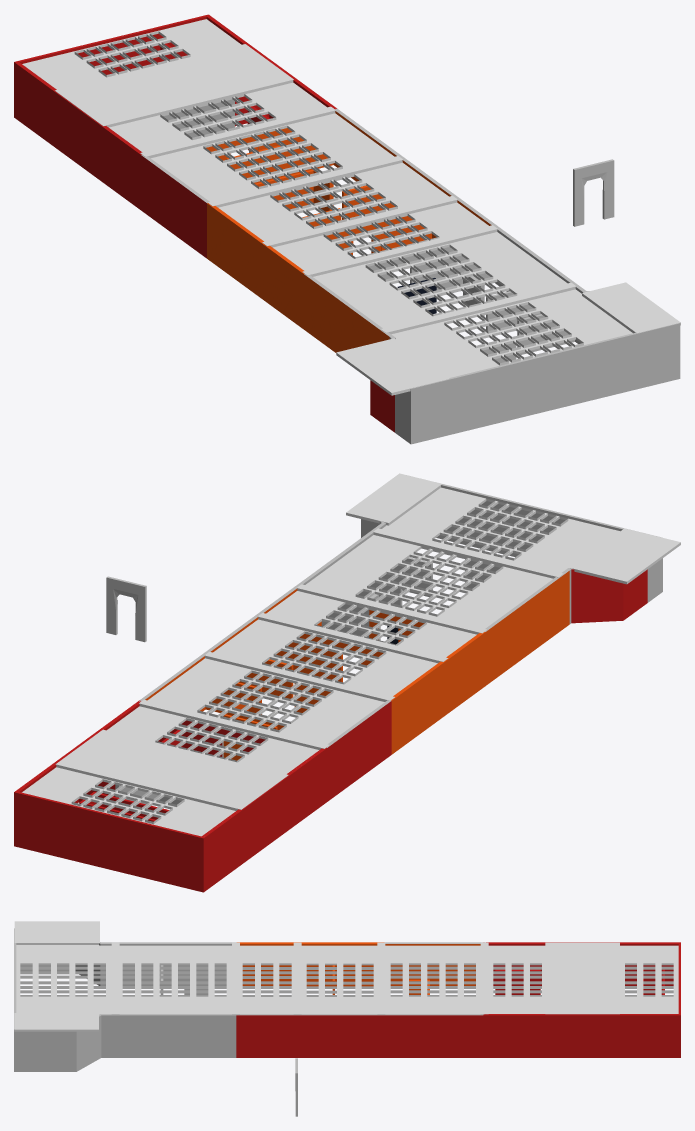
The model's file is museev13.obj.
3 renders of one model, top to bottom at view 1: azimuth 30°, elevation 25°; view 2: azimuth 150°, elevation 25°; view 3: azimuth 270°, elevation 25°, orthographic. The views are drawn at different scales.
Visible parts, largest first — view 1: Plane.009_Plane.013, Wall.042_Wall.045, Wall.028_Wall.001, Wall.030_Wall.014, Wall.036_Wall.033, Wall.004_Wall.009, Wall.024_Wall.037, Wall.014_Wall.027, Wall.044_Wall.047, Plane.003_Plane.001, Wall.027_Wall, Wall.003_Wall.006 (+2 smaller); view 2: Plane.009_Plane.013, Wall.037_Wall.041, Wall.004_Wall.009, Wall.036_Wall.033, Wall.044_Wall.047, Wall.028_Wall.001, Wall.030_Wall.014, Wall.024_Wall.037, Wall.014_Wall.027, Wall.042_Wall.045, Plane.003_Plane.001, Wall.027_Wall (+1 smaller); view 3: Plane.009_Plane.013, Wall.027_Wall, Wall.003_Wall.006, Wall.018_Wall.031, Wall.033_Wall.021, Wall_Wall.030, Wall.041_Wall.017, Wall.004_Wall.009, Wall.028_Wall.001, Wall.043_Wall.046, Wall.024_Wall.037, Wall.014_Wall.027 (+4 smaller).
Boxes of the visible parts, x1,y1,x2,y2 form: Plane.009_Plane.013: (22, 19, 680, 395); Wall.042_Wall.045: (413, 323, 678, 443); Wall.028_Wall.001: (141, 144, 221, 258); Wall.030_Wall.014: (76, 107, 142, 211); Wall.036_Wall.033: (14, 61, 78, 163); Wall.004_Wall.009: (303, 263, 391, 352); Wall.024_Wall.037: (207, 203, 263, 299); Wall.014_Wall.027: (263, 244, 304, 328); Wall.044_Wall.047: (370, 337, 413, 444); Plane.003_Plane.001: (573, 159, 614, 226); Wall.027_Wall: (258, 108, 433, 182); Wall.003_Wall.006: (419, 226, 583, 343); Plane.009_Plane.013: (22, 473, 680, 836); Wall.037_Wall.041: (17, 792, 201, 891); Wall.004_Wall.009: (408, 570, 569, 685); Wall.036_Wall.033: (200, 792, 266, 892); Wall.044_Wall.047: (569, 537, 662, 623); Wall.028_Wall.001: (251, 700, 391, 800); Wall.030_Wall.014: (264, 747, 328, 846); Wall.024_Wall.037: (391, 660, 446, 754); Wall.014_Wall.027: (446, 632, 485, 714); Wall.042_Wall.045: (436, 484, 657, 557); Plane.003_Plane.001: (106, 576, 146, 642); Wall.027_Wall: (139, 631, 236, 754); Plane.009_Plane.013: (14, 921, 678, 1031); Wall.027_Wall: (335, 1014, 485, 1057); Wall.003_Wall.006: (104, 1014, 236, 1057); Wall.018_Wall.031: (236, 1014, 335, 1057); Wall.033_Wall.021: (483, 1014, 584, 1057); Wall_Wall.030: (584, 1014, 680, 1057); Wall.041_Wall.017: (38, 1014, 101, 1071); Wall.004_Wall.009: (105, 942, 236, 985); Wall.028_Wall.001: (385, 942, 485, 985); Wall.043_Wall.046: (14, 1028, 38, 1071); Wall.024_Wall.037: (298, 942, 384, 986); Wall.014_Wall.027: (237, 942, 297, 985).
Size of the model in its own units: 102 by 13.68 by 189.
